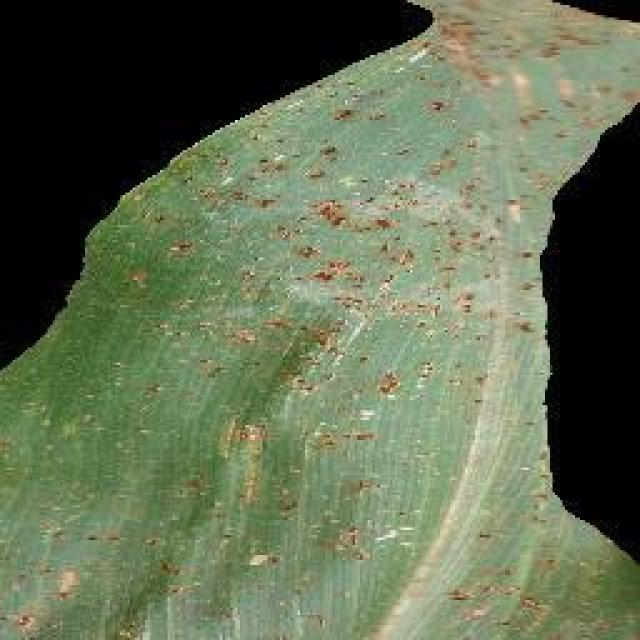Corn Common Rust: (260, 0, 498, 640)
